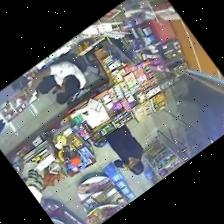person: (22, 60, 85, 103), (106, 125, 144, 173)
